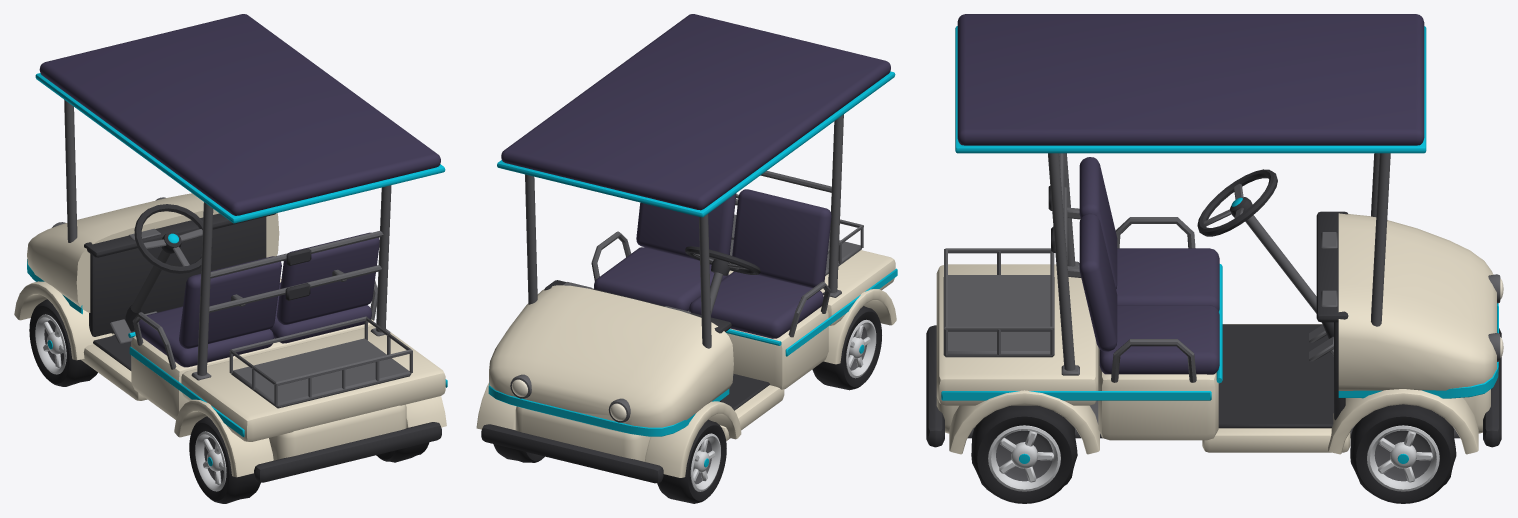
Rendered from GolfCart.fbx.
3 views of the same model, side by side, from view 1: azimuth 30°, elevation 25°; view 2: azimuth 150°, elevation 25°; view 3: azimuth 270°, elevation 25° (orthographic). The views are drawn at different scales.
Visible parts, largest first — view 1: Cart_Body, Wheel_RL, Wheel_FL, Steering_Wheel, Wheel_RR; view 2: Cart_Body, Wheel_FL, Wheel_RL, Steering_Wheel, Wheel_FR; view 3: Cart_Body, Wheel_FR, Wheel_RR, Steering_Wheel.
Part boxes in pixels (bbox=[...]): Cart_Body: bbox=[14, 14, 447, 482]; Wheel_RL: bbox=[189, 416, 260, 503]; Wheel_FL: bbox=[29, 299, 97, 386]; Steering_Wheel: bbox=[134, 204, 212, 273]; Wheel_RR: bbox=[376, 442, 429, 462]; Cart_Body: bbox=[476, 14, 897, 483]; Wheel_FL: bbox=[657, 419, 726, 503]; Wheel_RL: bbox=[812, 306, 881, 390]; Steering_Wheel: bbox=[685, 246, 760, 275]; Wheel_FR: bbox=[493, 444, 544, 462]; Cart_Body: bbox=[926, 14, 1503, 454]; Wheel_FR: bbox=[1350, 404, 1456, 503]; Wheel_RR: bbox=[971, 405, 1077, 503]; Steering_Wheel: bbox=[1197, 169, 1277, 236].
Size of the model in its own units: 1.28 by 1.8 by 2.5.
